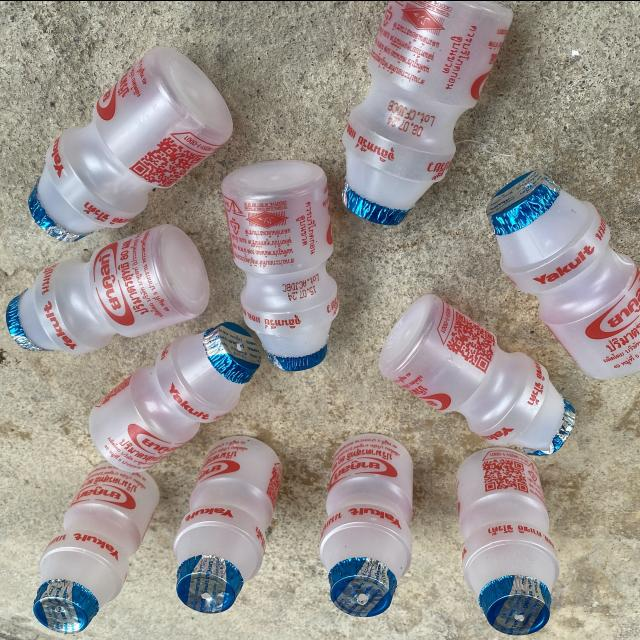plastik: (29, 46, 233, 241), (343, 0, 512, 224), (379, 294, 575, 455), (489, 170, 640, 378), (8, 224, 209, 353), (90, 321, 261, 470), (222, 160, 338, 370), (34, 462, 159, 633), (457, 446, 559, 634), (174, 435, 281, 612), (319, 433, 413, 616)
